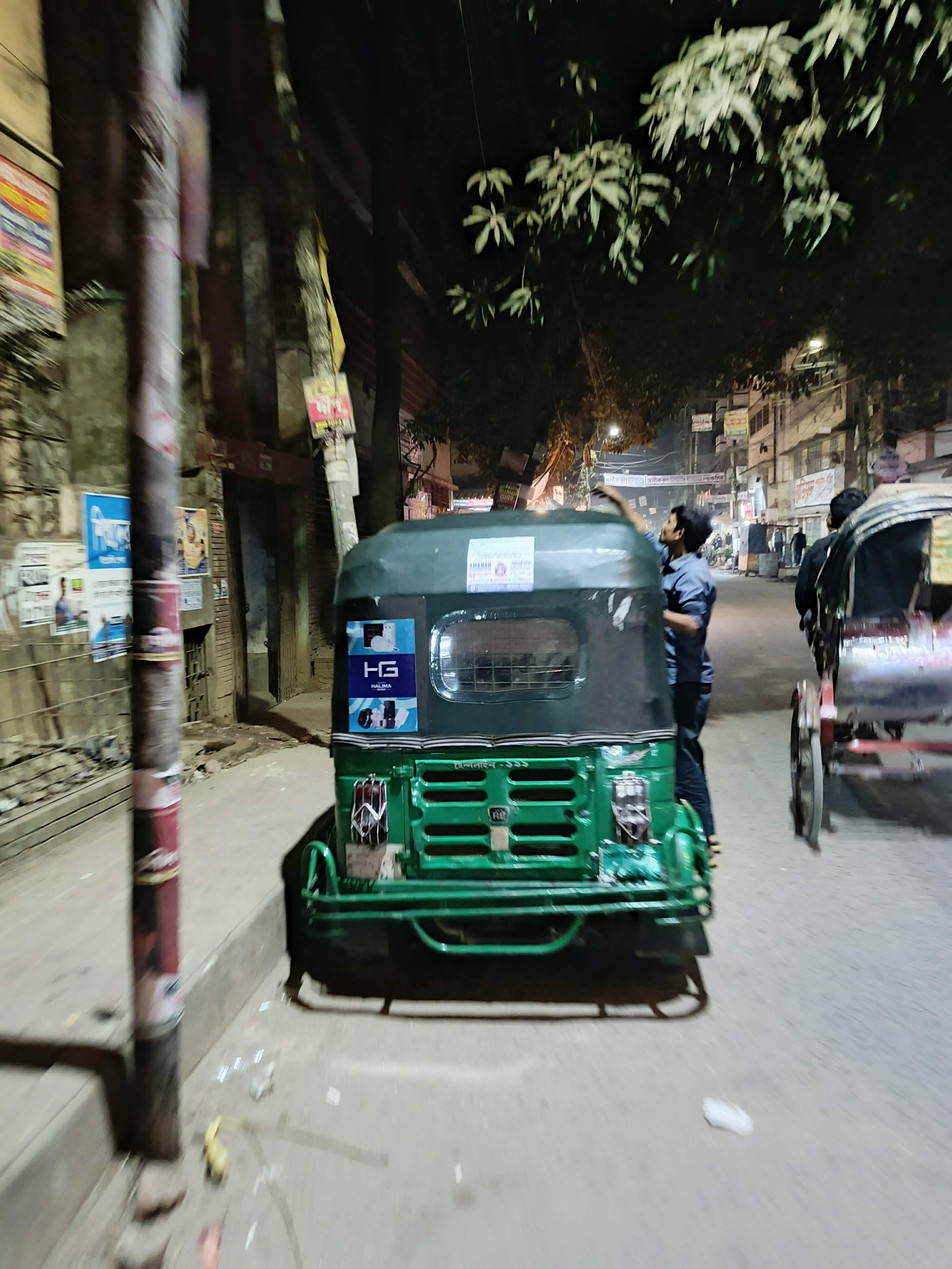cng: (287, 494, 716, 970)
